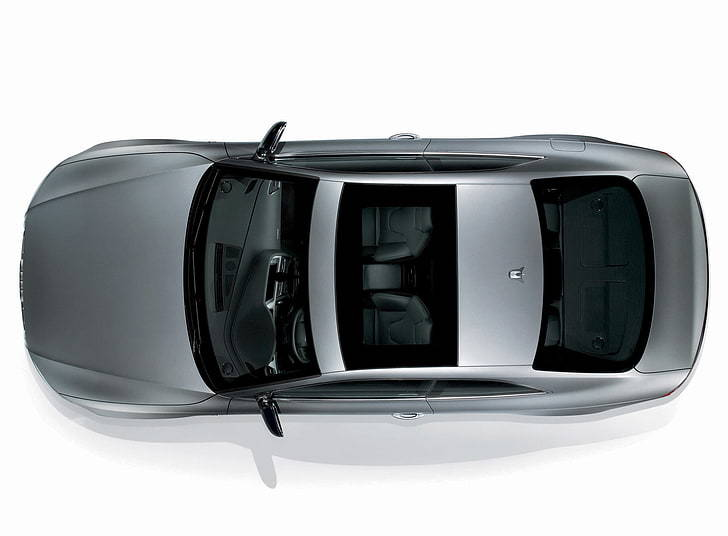audi: (12, 119, 715, 441)
